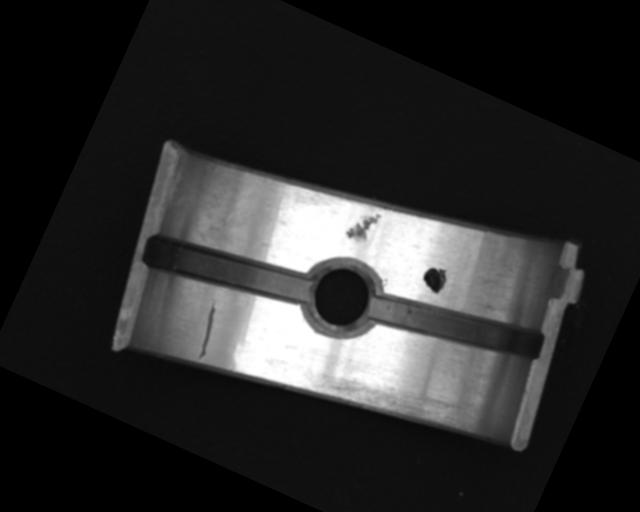blot: (418, 261, 451, 296)
bruise: (344, 204, 383, 247)
gap: (366, 265, 547, 389), (141, 212, 316, 332)
hole: (290, 247, 391, 348)
nick: (187, 297, 228, 363)
scratch: (302, 343, 468, 454)
